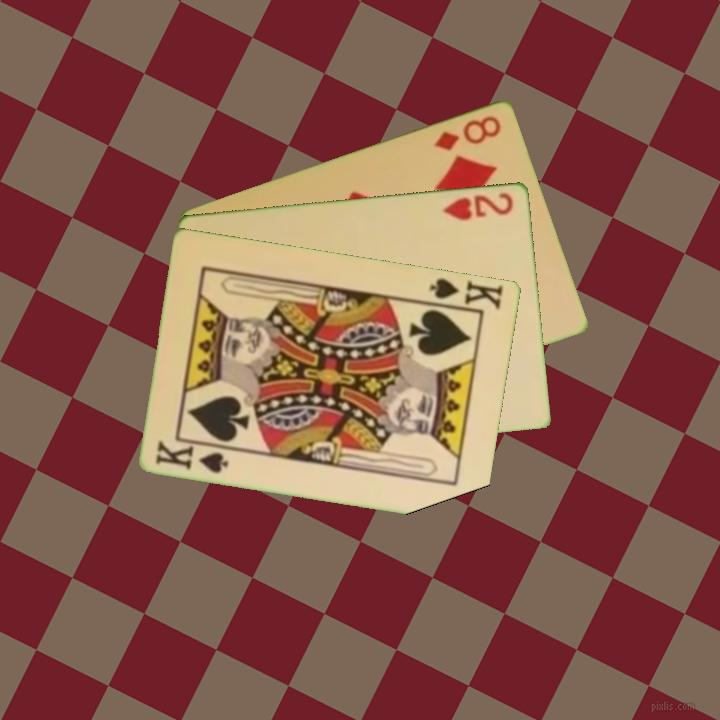2h: (440, 189, 516, 223)
8d: (431, 111, 505, 153)
Ks: (152, 437, 232, 476), (426, 274, 507, 312)
